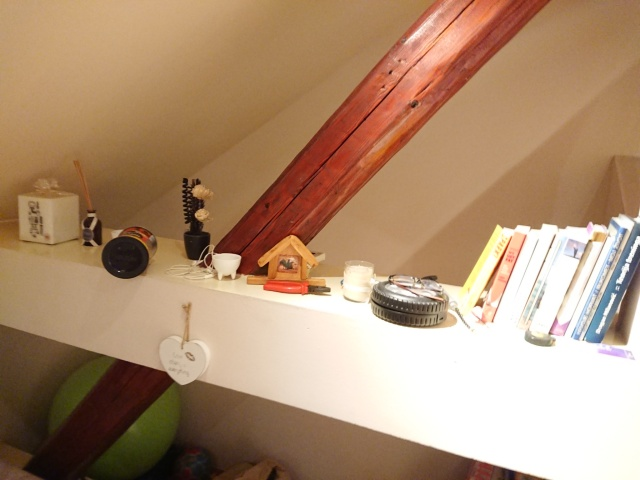Nescafe Classic 225g: (100, 224, 161, 281)
